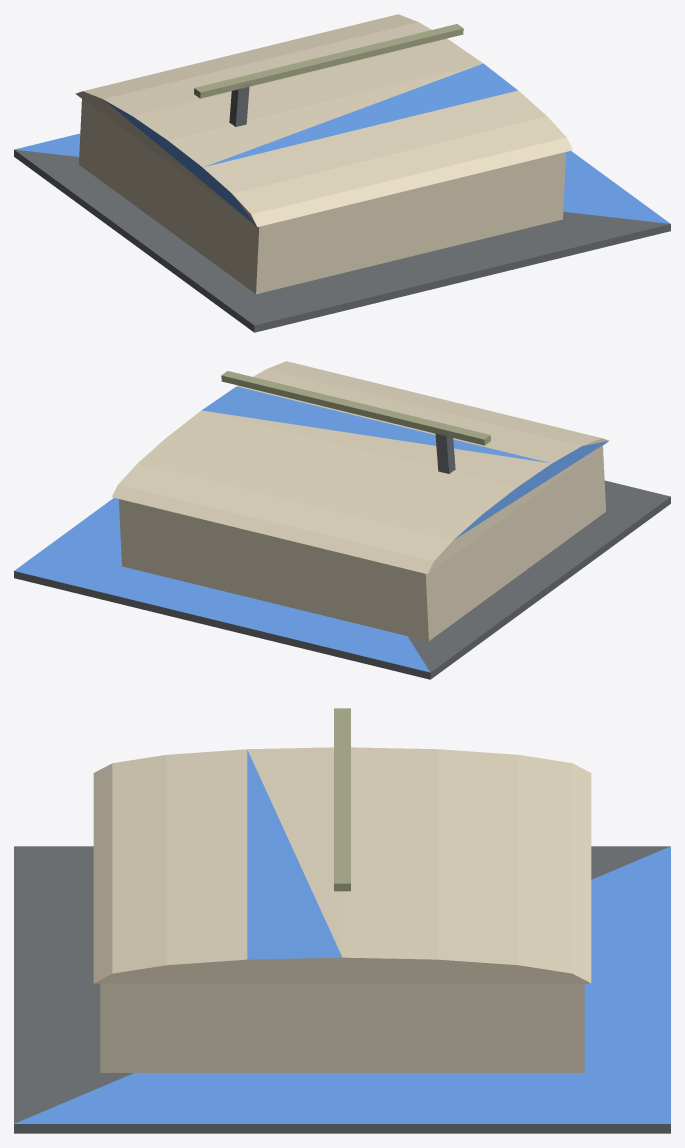
File: meridian_construction_center_heavily_damaged.glb
3 renders of one model, top to bottom at view 1: azimuth 30°, elevation 25°; view 2: azimuth 150°, elevation 25°; view 3: azimuth 270°, elevation 25°, orthographic. The views are drawn at different scales.
Visible parts, largest first — view 1: hull, crane; view 2: hull, crane; view 3: hull, crane.
Boxes of the visible parts, <box> form: hull: <box>14,14,670,332</box>; crane: <box>194,24,463,126</box>; hull: <box>14,361,670,679</box>; crane: <box>221,371,490,473</box>; hull: <box>14,747,670,1133</box>; crane: <box>334,708,350,891</box>.
Size of the model in its own units: 15.2 by 4.85 by 15.2.
